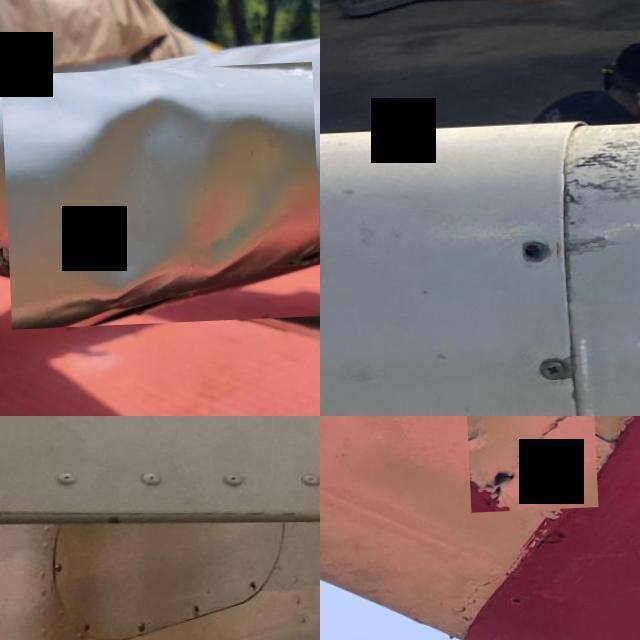Crack: (463, 416, 594, 516), (574, 424, 621, 460)
Dent: (0, 66, 319, 331)
Missing_Fastener: (518, 237, 553, 273)
